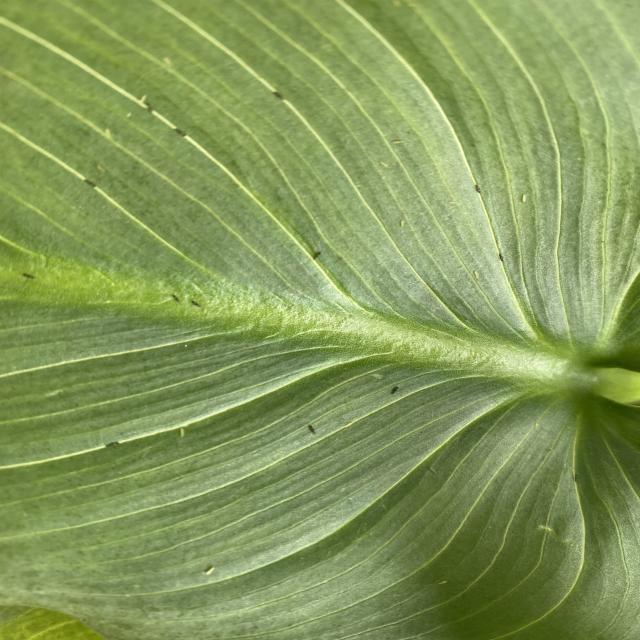Thrip-Adult-: (300, 420, 321, 440), (16, 268, 42, 281), (388, 383, 406, 398), (187, 297, 207, 310), (469, 182, 486, 196), (166, 292, 182, 306), (100, 440, 122, 450), (496, 249, 507, 262), (310, 250, 324, 260)
Thrip-Larva-: (38, 384, 69, 402), (169, 423, 194, 442), (198, 564, 214, 579), (424, 466, 440, 478), (388, 138, 412, 146), (375, 160, 393, 170), (396, 214, 407, 228), (446, 198, 463, 207), (434, 578, 449, 588), (519, 192, 530, 203), (472, 267, 482, 279)
